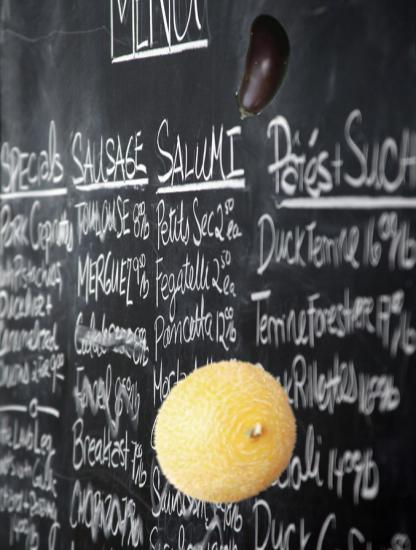Cantaloupe: (150, 358, 300, 508)
Eggplant: (208, 12, 316, 120)
